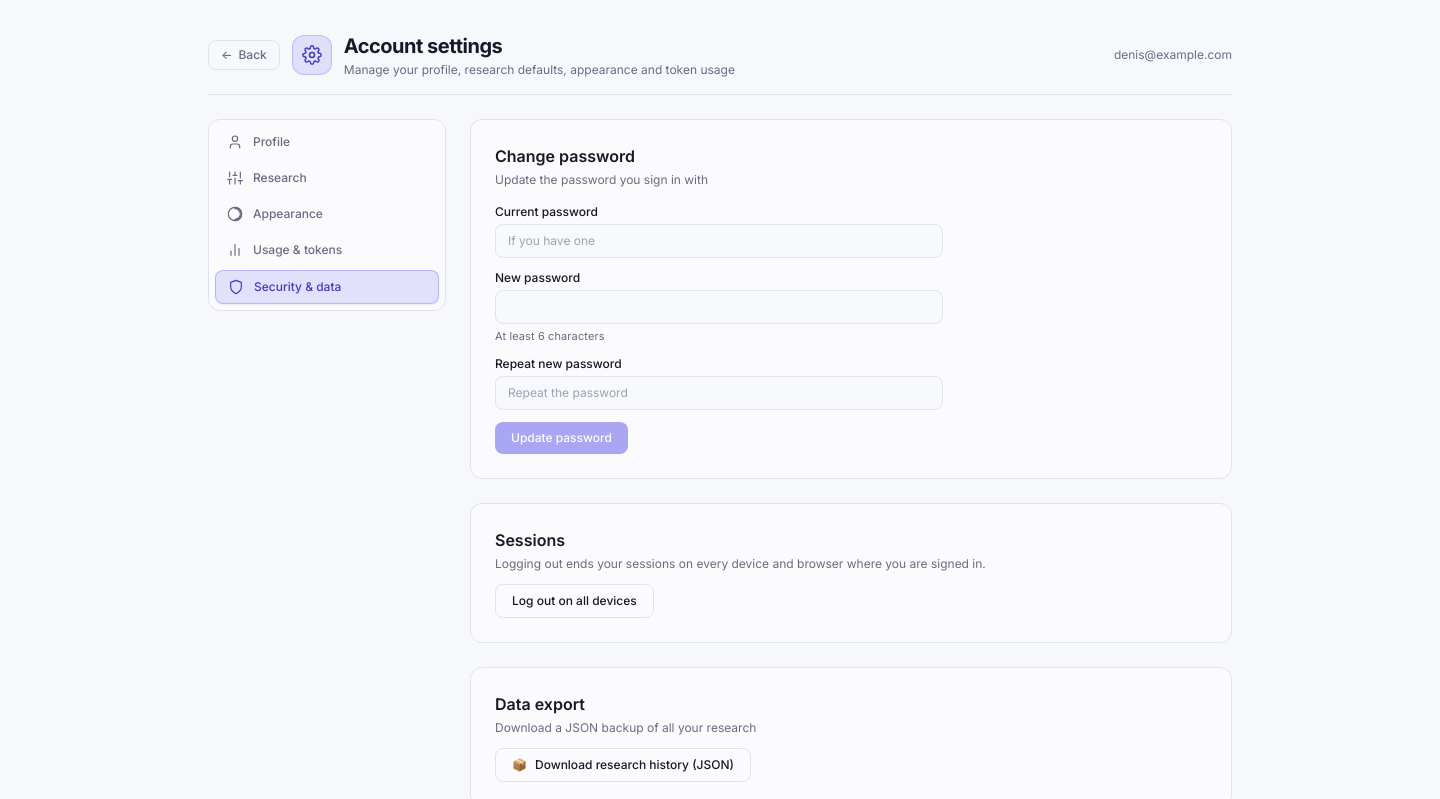
Test: SettingsView › keeps the generic forbidden text for other 403s
Type "new-password" into the password field labelled "New password".
click(719, 307); type("new-password")  # box [495,290,943,324]
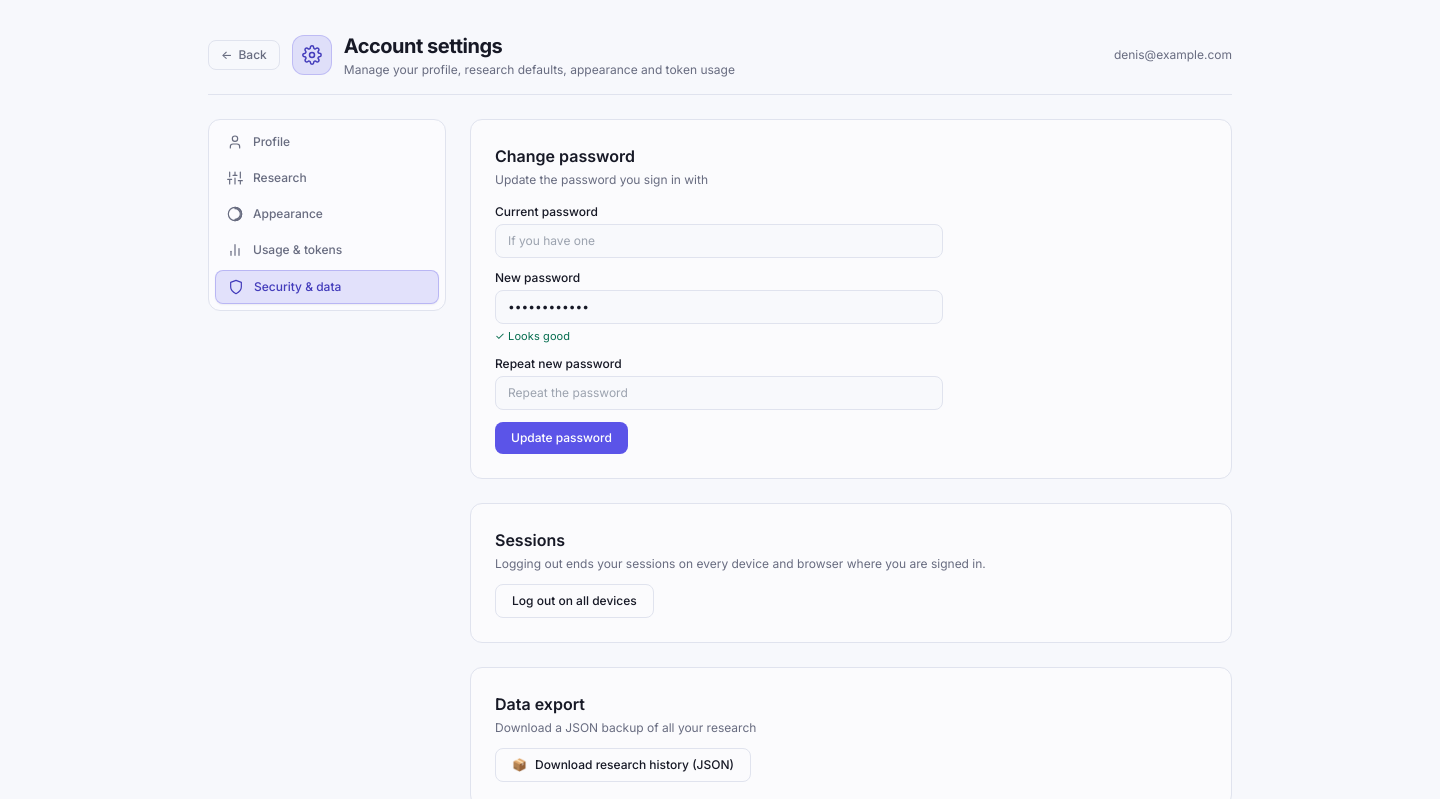
Type "new-password" into the password field labelled "Repeat new password".
click(719, 393); type("new-password")  # box [495,376,943,410]
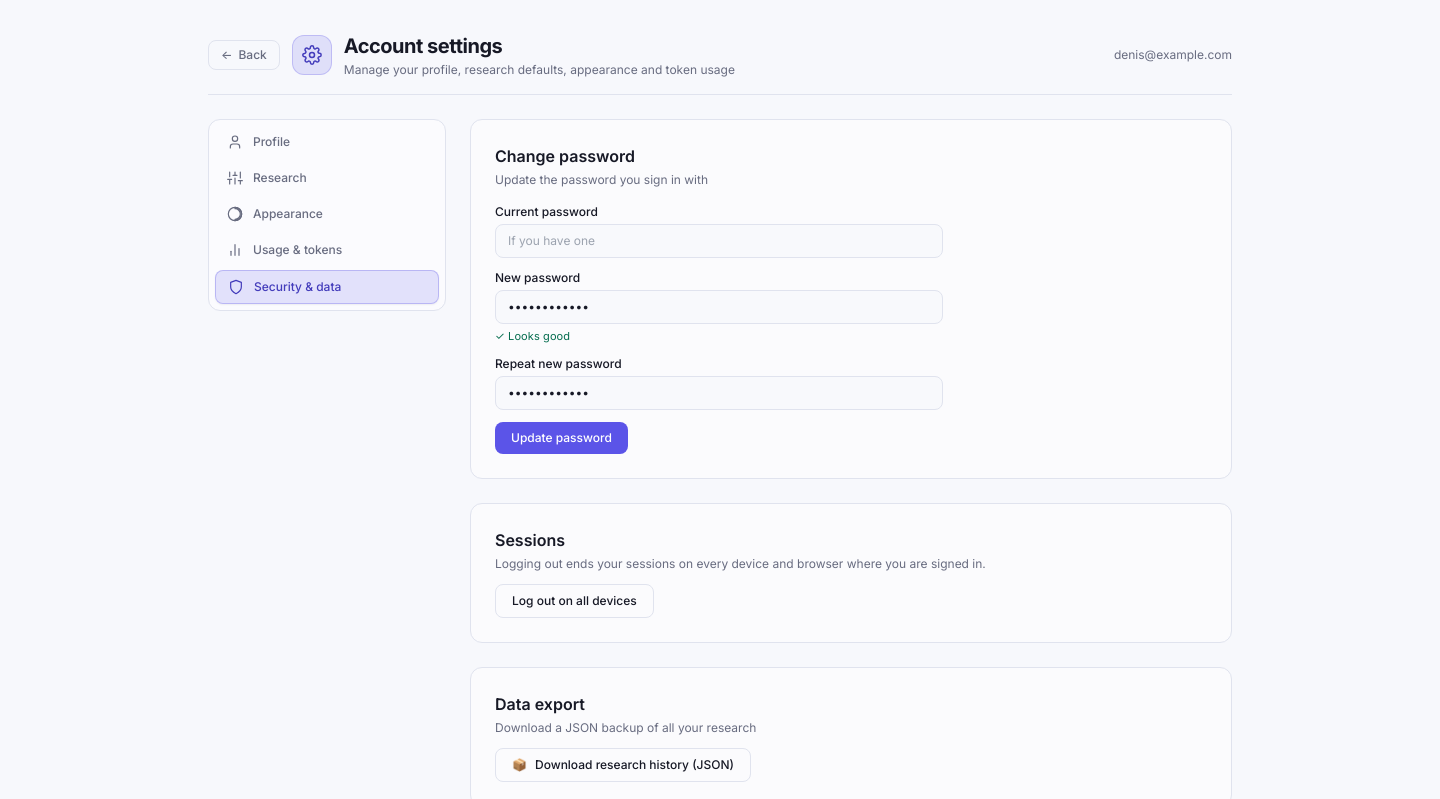
Click the button "Update password".
click(561, 438)  # box [495,422,628,454]
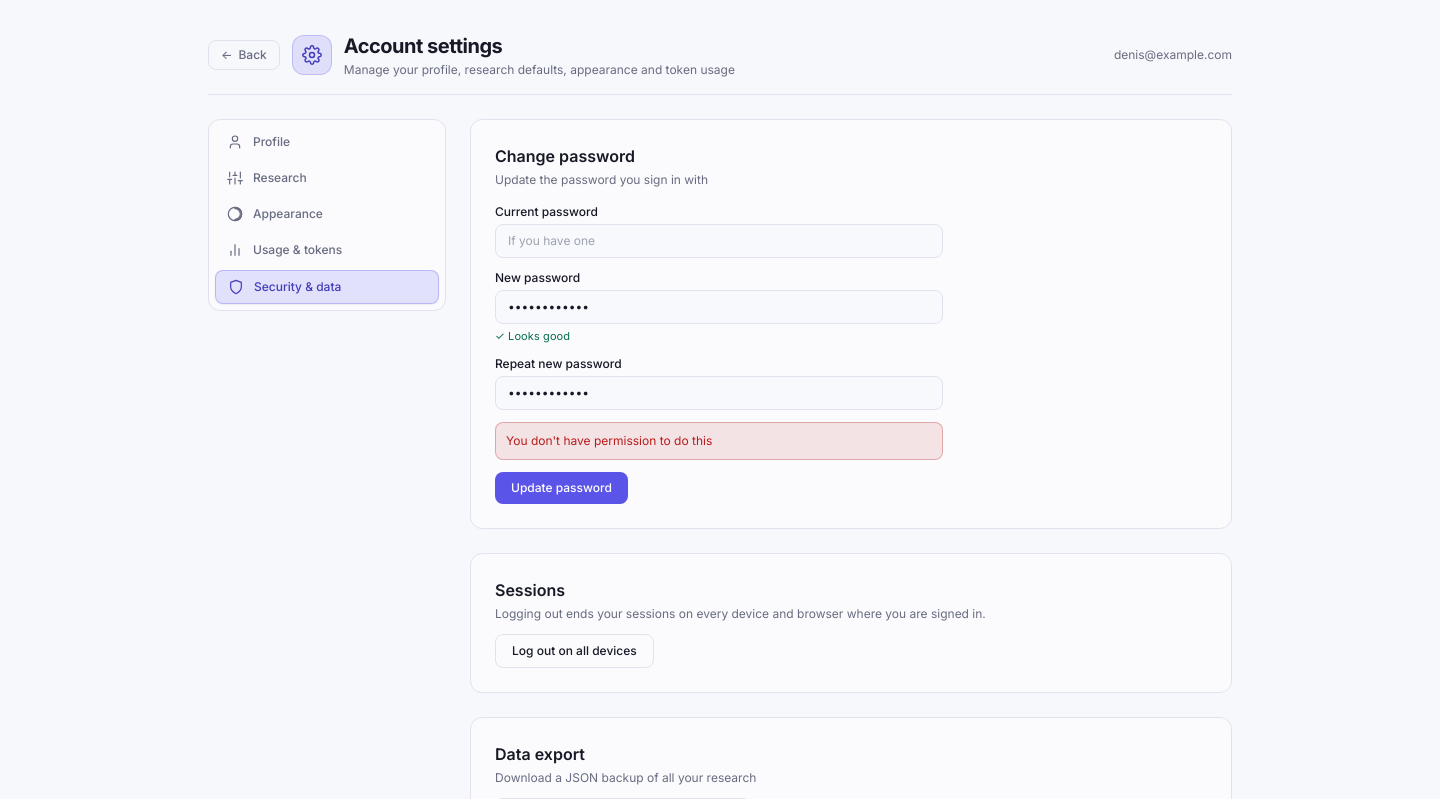
Now the text "You don't have permission to do this" is shown, box [495,422,943,460]
